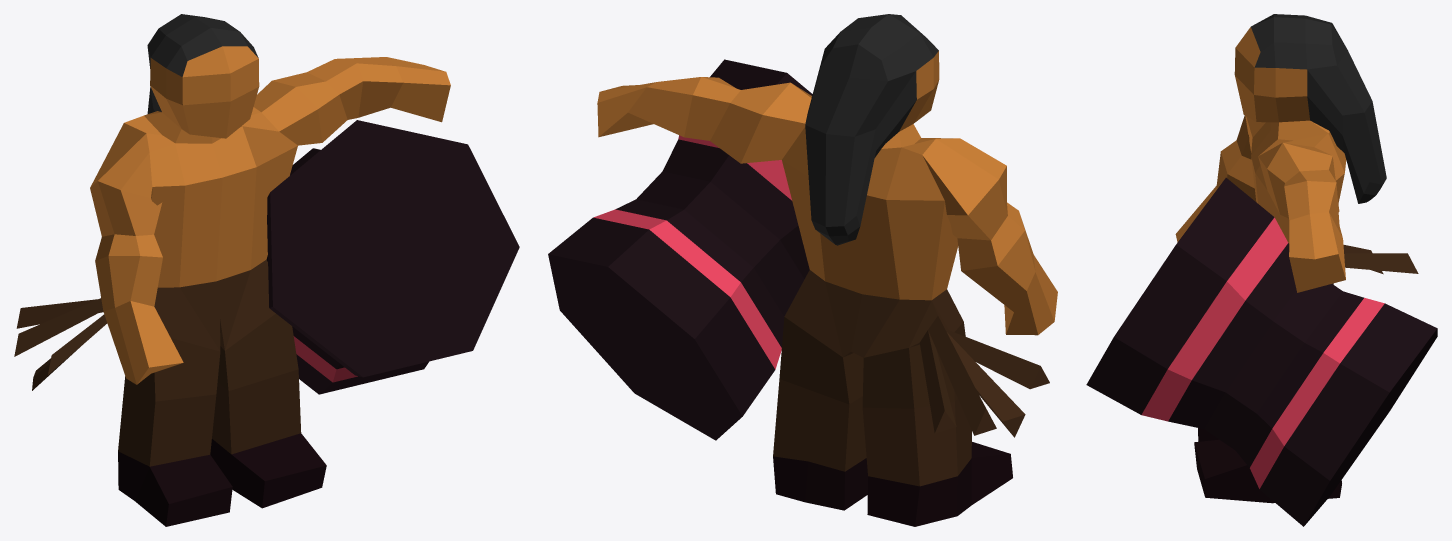
Rendered from shaman.glb.
3 views of the same model, side by side, from view 1: azimuth 30°, elevation 25°; view 2: azimuth 150°, elevation 25°; view 3: azimuth 270°, elevation 25° (orthographic). The views are drawn at different scales.
Parts seen in each view (by area): view 1: Warrior, Cylinder; view 2: Warrior, Cylinder; view 3: Cylinder, Warrior.
Part boxes in pixels (<box>): Warrior: <box>14,14,450,526</box>; Cylinder: <box>266,120,519,394</box>; Warrior: <box>597,14,1057,526</box>; Cylinder: <box>548,59,812,440</box>; Cylinder: <box>1086,177,1437,526</box>; Warrior: <box>1175,14,1418,503</box>.
Size of the model in its own units: 2.54 by 2.49 by 1.77.
